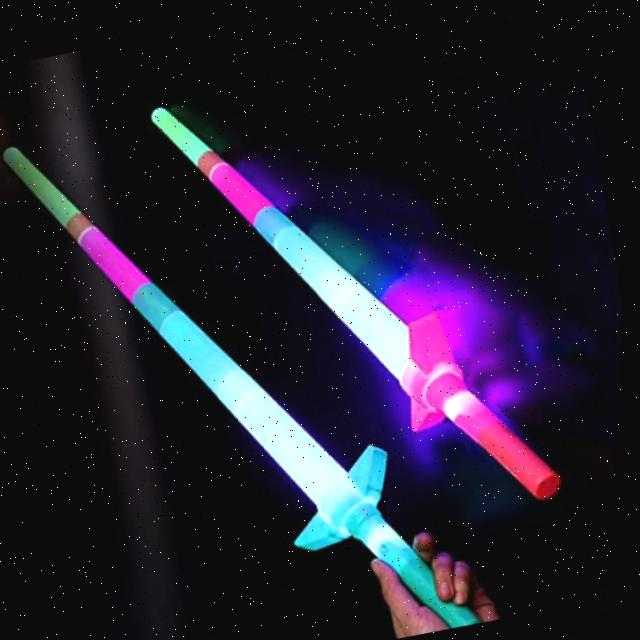knife: (0, 55, 515, 640), (128, 22, 591, 558)
